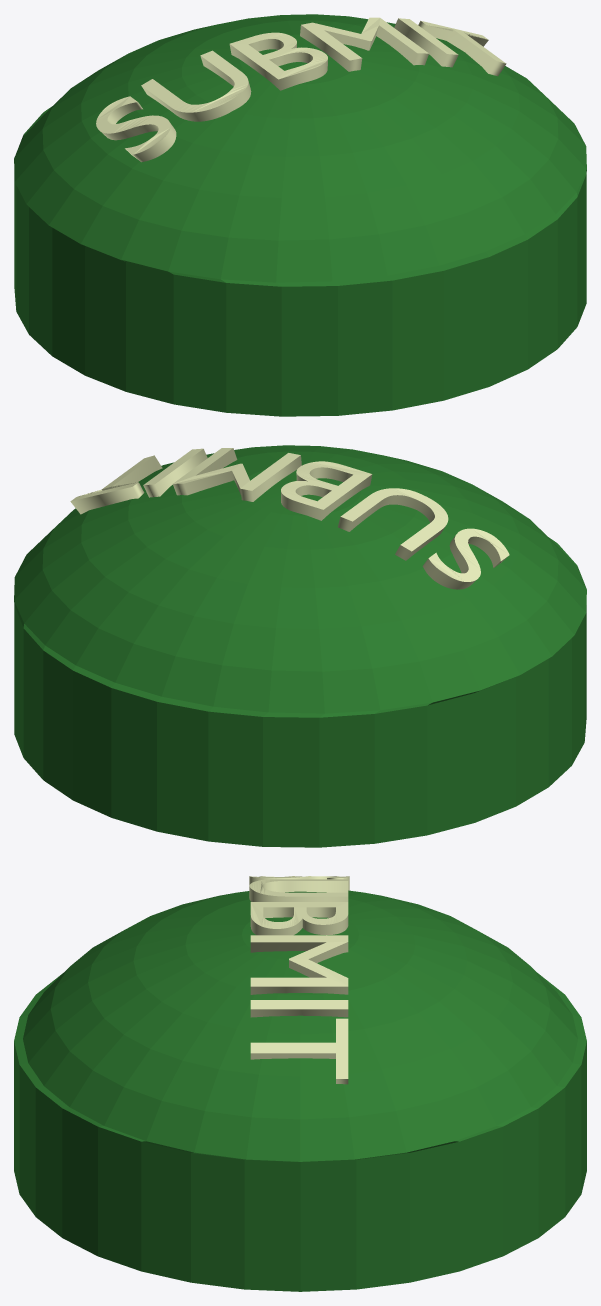
Rendered from submit.fbx.
The picture shows the model from 3 angles, top to bottom: view 1: azimuth 30°, elevation 25°; view 2: azimuth 150°, elevation 25°; view 3: azimuth 270°, elevation 25°; orthographic projection.
Visible parts, largest first — view 1: SubmitButton, Text; view 2: SubmitButton, Text; view 3: SubmitButton, Text.
Part boxes in pixels (left/top/right/bottom): SubmitButton: left=14, top=14, right=586, bottom=416; Text: left=96, top=17, right=506, bottom=162; SubmitButton: left=14, top=445, right=586, bottom=847; Text: left=70, top=448, right=509, bottom=589; SubmitButton: left=14, top=890, right=586, bottom=1291; Text: left=249, top=876, right=349, bottom=1084.
Bounding box in the file's own units: 406 × 191 × 400.
